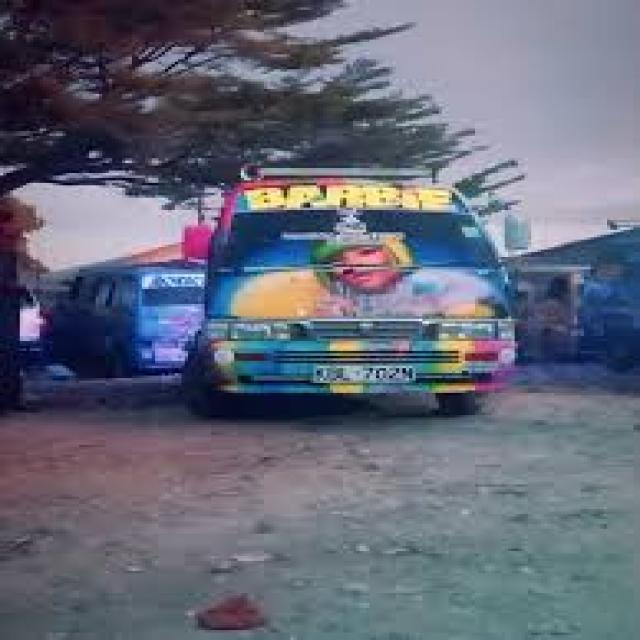matatu: (101, 102, 594, 452)
